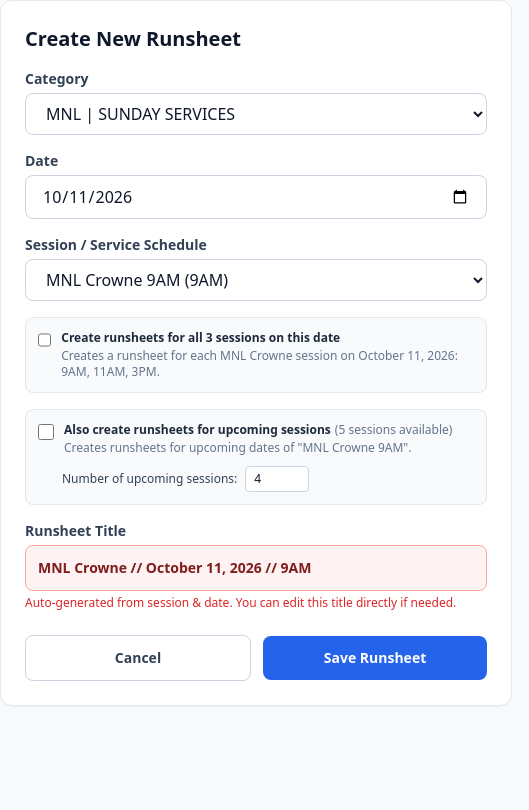
Scenario: CreateRunsheetForm batch operations › Skip reporting, onCreated, and error handling › when everything already exists, reports 0 created and skipped count, and opens the first skipped existing runsheet
This screenshot has width=529, height=810.
Expected: the number field named "Upcoming sessions count" is shown, [245, 466, 309, 492]
Click the checkbox labelled "Also create runsheets for upcoming sessions".
click(46, 432)  # box [38, 424, 54, 440]
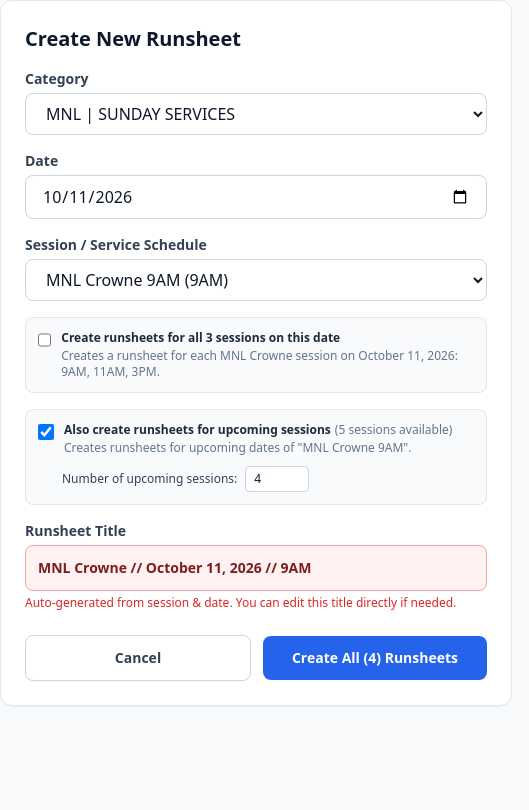
Replace the text in the number field named "Upcoming sessions count" with "2" at x=277, y=479, box [245, 466, 309, 492]
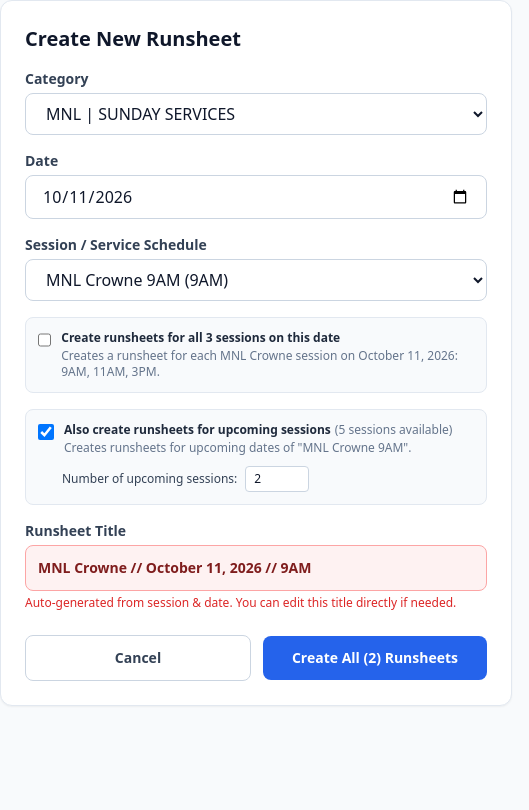
Click the button "Create All (2) Runsheets".
click(375, 658)  # box [263, 636, 487, 680]
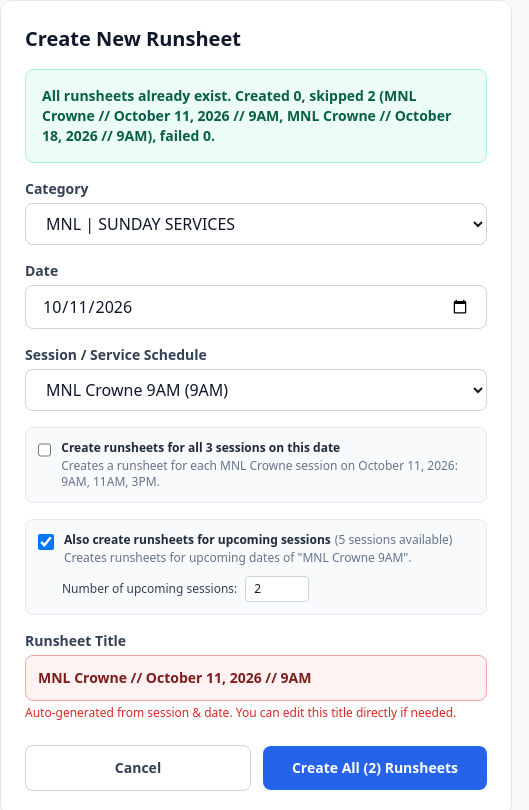
Now the text "Created 0, skipped 2" is shown, box [42, 86, 451, 145]
